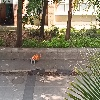fire: (32, 53, 41, 60)
